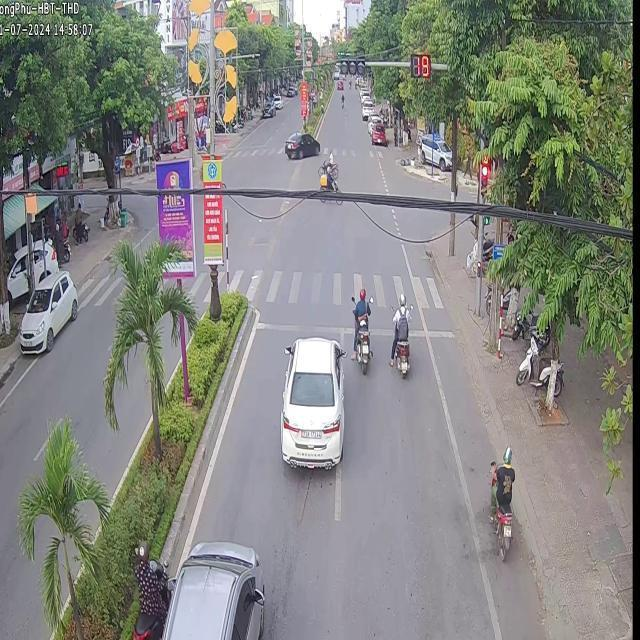car: (164, 540, 263, 638), (279, 336, 344, 467), (18, 269, 76, 351)
motobike: (488, 445, 513, 558), (388, 291, 410, 376), (354, 318, 370, 371)
red_light: (411, 54, 431, 77), (480, 152, 488, 201)
stop_line: (252, 320, 352, 337)
